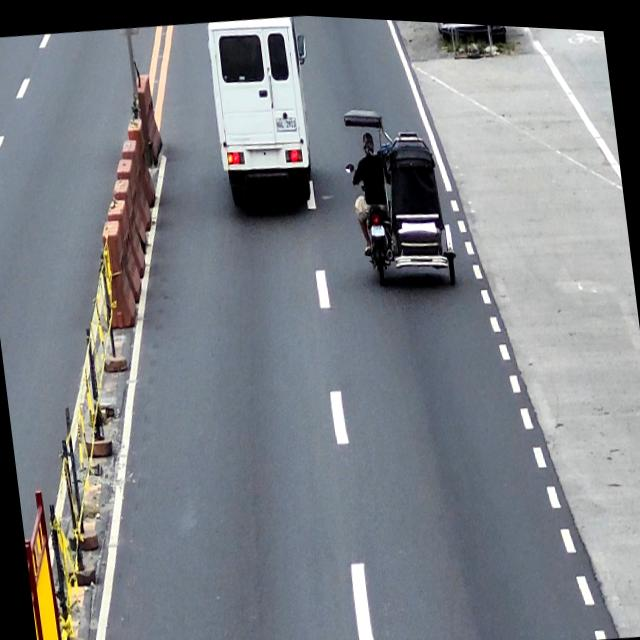Car: (202, 8, 324, 212)
License-Plate: (274, 111, 297, 131), (370, 219, 384, 233)
Tricycle: (340, 96, 458, 292)
